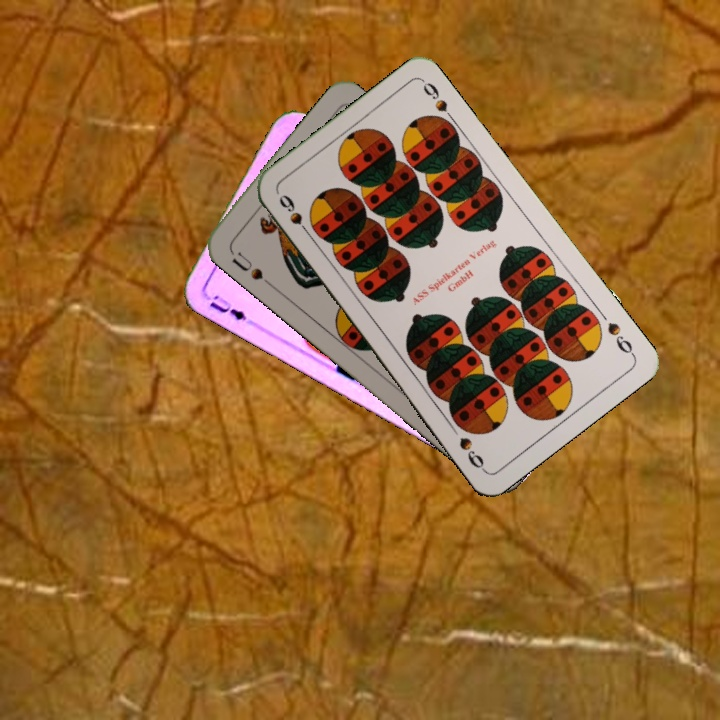EU: (201, 290, 257, 326)
S9: (274, 190, 315, 241), (603, 318, 638, 359)
SU: (227, 248, 274, 289)
